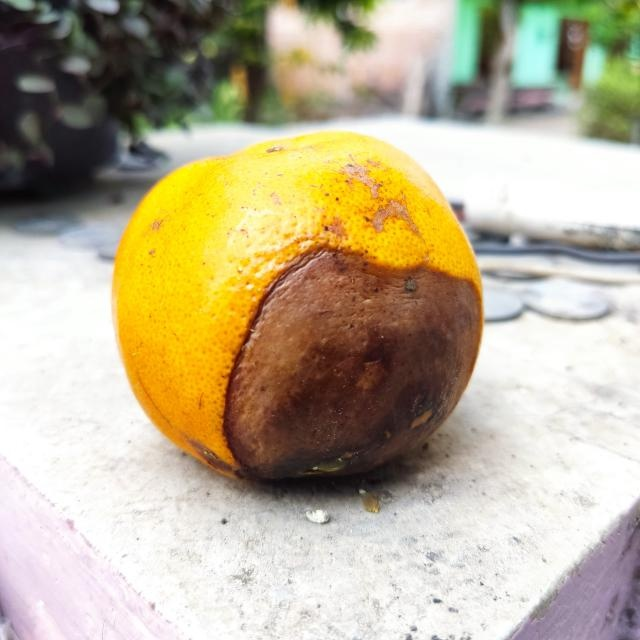agrume: (108, 131, 485, 485)
